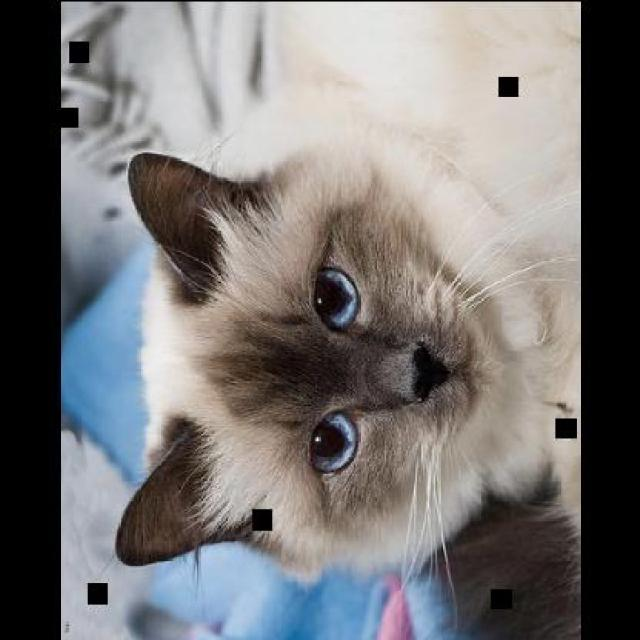unauthorized: (114, 123, 578, 639)
